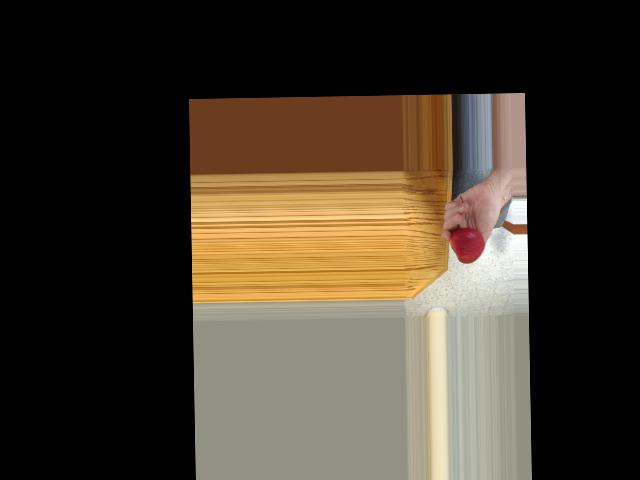apple: (448, 224, 486, 265)
